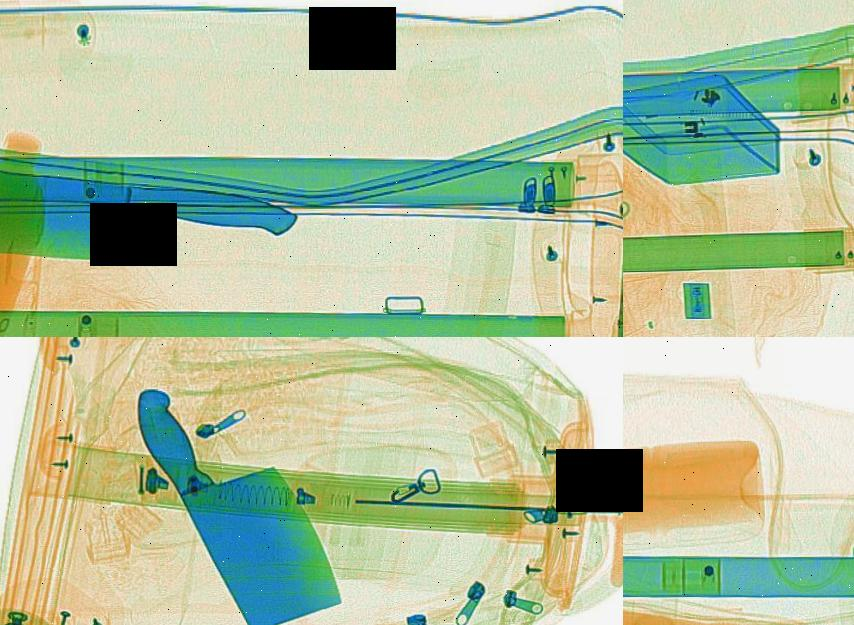Knife: (108, 360, 364, 625), (0, 151, 302, 283)
